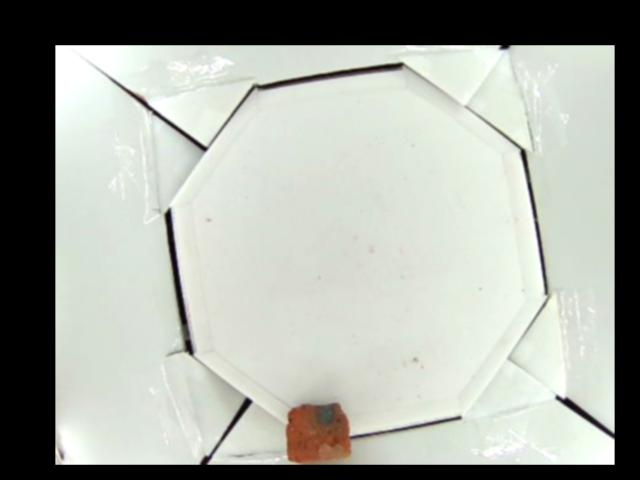Brisk: (286, 402, 350, 461)
